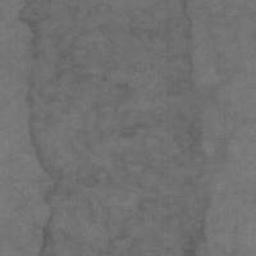Water spot: (17, 0, 211, 256)
